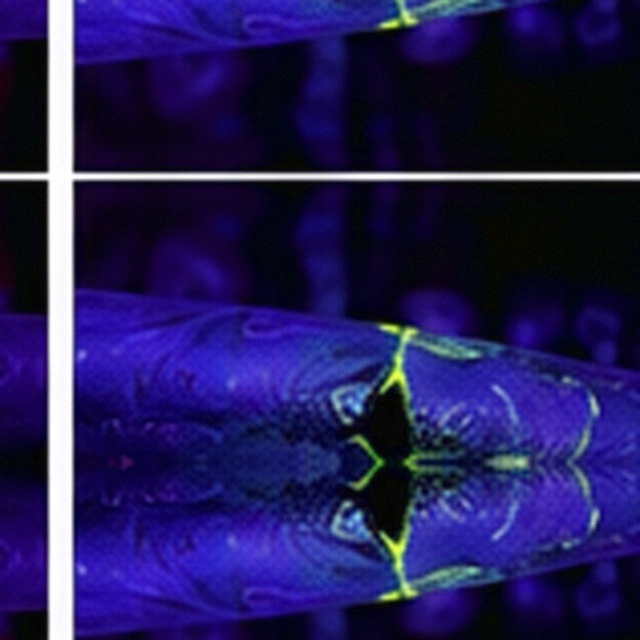hydraulic_oil_leak: (380, 323, 416, 425), (380, 505, 413, 593), (354, 435, 384, 489), (415, 339, 476, 357), (404, 450, 446, 475), (417, 567, 460, 585), (511, 466, 523, 470), (510, 455, 523, 457), (416, 490, 418, 493), (435, 481, 438, 483)
